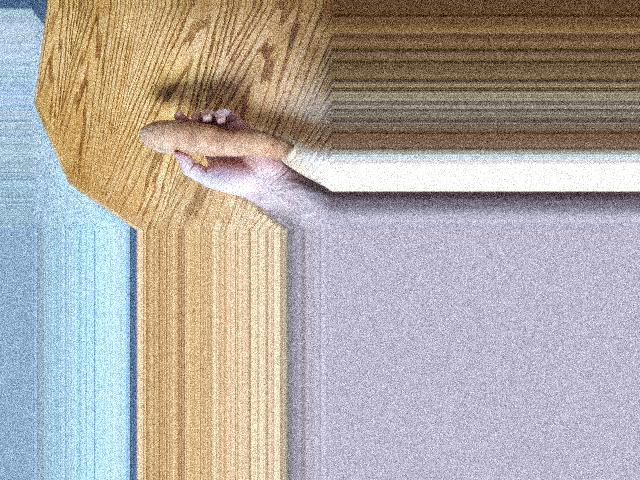sweet_potato: (133, 109, 290, 156)
